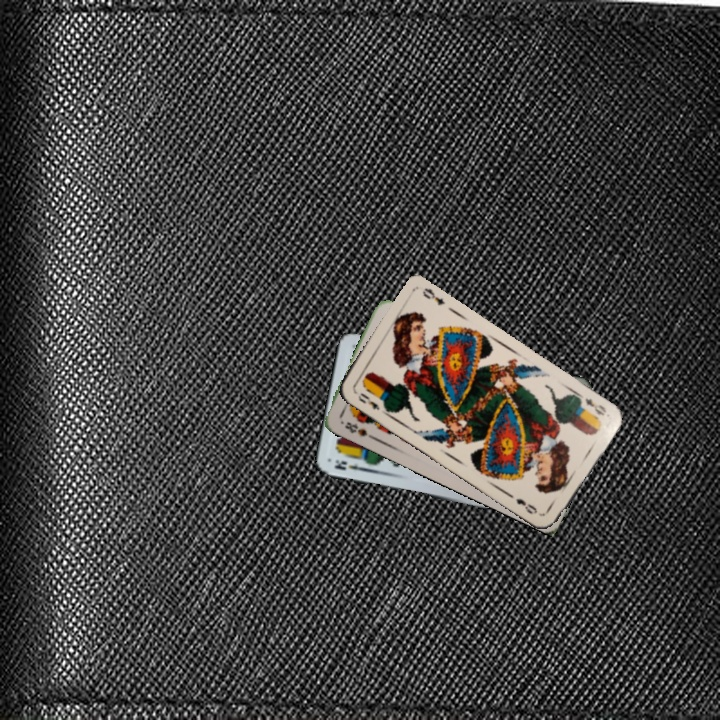EK: (330, 456, 370, 474)
EO: (354, 388, 382, 412), (581, 394, 609, 418)
S8: (341, 418, 375, 441)
